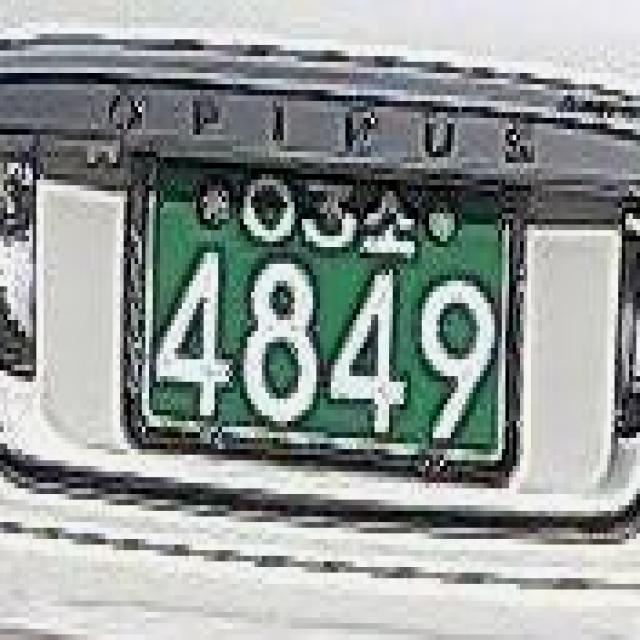illegal_plate: (108, 138, 535, 506)
